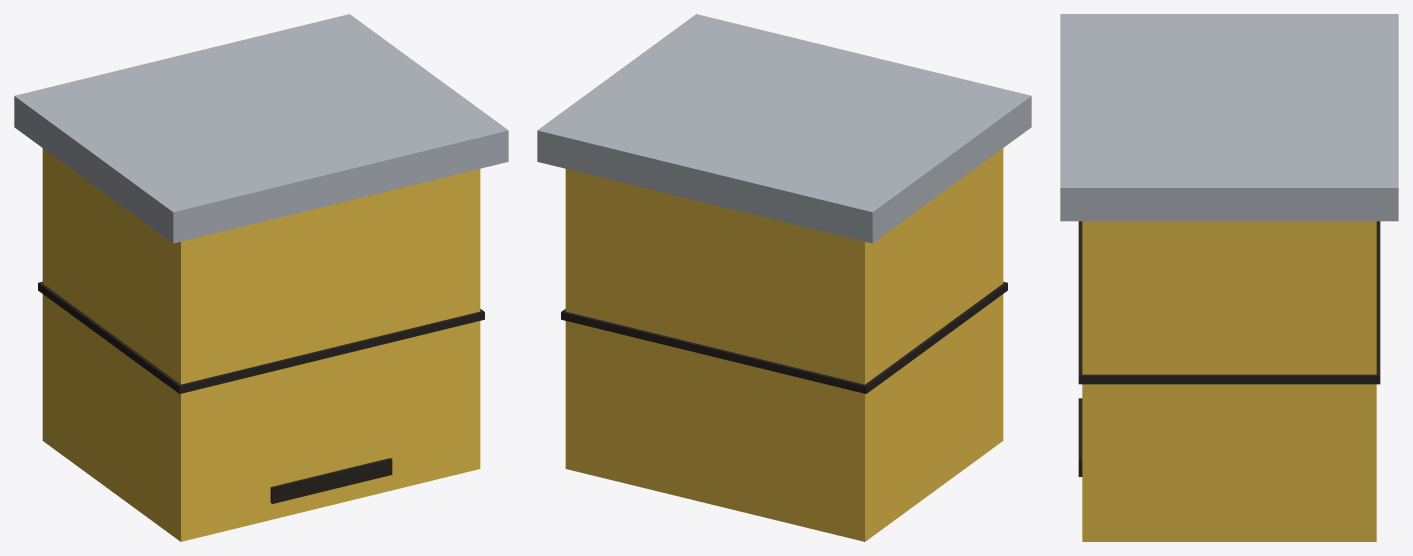
The model's file is beehive.glb.
3 renders of one model, left to right at view 1: azimuth 30°, elevation 25°; view 2: azimuth 150°, elevation 25°; view 3: azimuth 270°, elevation 25°, orthographic. The views are drawn at different scales.
Visible parts, largest first — view 1: box_hive_yellow, roof_hive_roof, band_hive_dark, slot_hive_dark; view 2: box_hive_yellow, roof_hive_roof, band_hive_dark; view 3: box_hive_yellow, roof_hive_roof, band_hive_dark.
Part boxes in pixels (x1=…): box_hive_yellow: x1=42, y1=148, x2=480, y2=541; roof_hive_roof: x1=14, y1=14, x2=508, y2=243; band_hive_dark: x1=38, y1=281, x2=484, y2=393; slot_hive_dark: x1=270, y1=458, x2=392, y2=503; box_hive_yellow: x1=565, y1=148, x2=1003, y2=541; roof_hive_roof: x1=537, y1=14, x2=1031, y2=243; band_hive_dark: x1=561, y1=281, x2=1007, y2=393; box_hive_yellow: x1=1082, y1=221, x2=1376, y2=541; roof_hive_roof: x1=1060, y1=14, x2=1398, y2=221; band_hive_dark: x1=1078, y1=221, x2=1380, y2=384.
Bounding box in the file's own units: 0.56 × 0.545 × 0.46.
